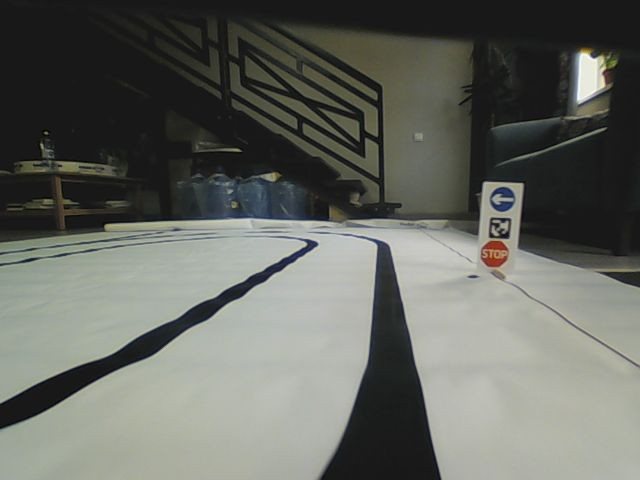Stop: (479, 240, 512, 268)
